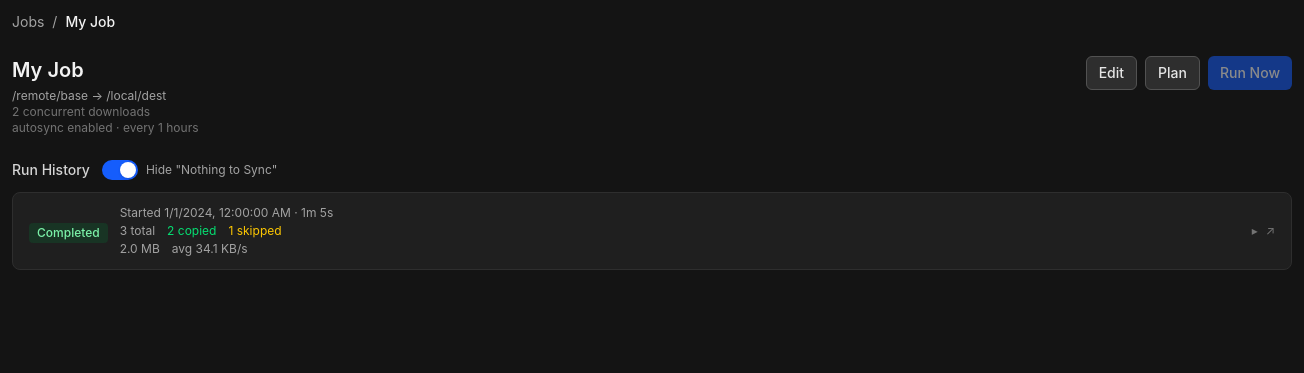
"Hide Nothing to Sync" toggle › shows the toggle when nothing_to_sync runs exist and hides/shows them on click
This screenshot has width=1304, height=373.
Expected: the text "Started 1/1/2024, 12:00:00 AM · 1m 5s" is shown once, [120,205,333,220]
Click to show all runs.
Click the switch: (120,170) [102,160,138,180]
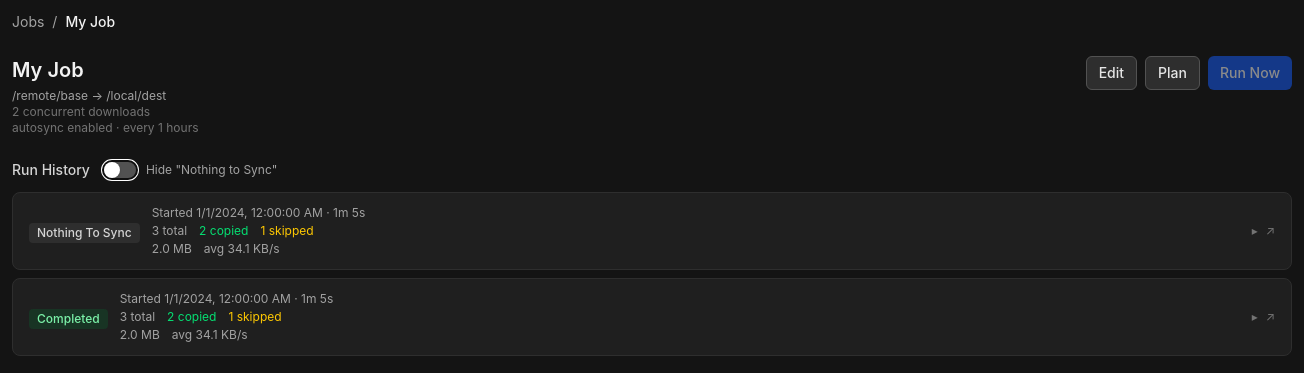
Expected: the text "Started 1/1/2024, 12:00:00 AM · 1m 5s" is shown 2 times, [152,205,365,220]; [120,291,333,306]
Click again to hide nothing_to_sync runs.
Click the switch: (120,170) [102,160,138,180]
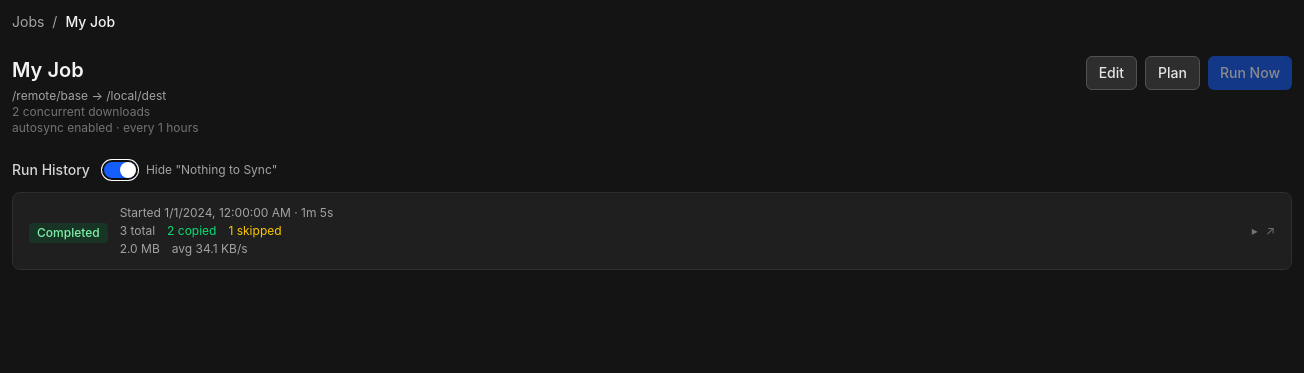
Expected: the text "Started 1/1/2024, 12:00:00 AM · 1m 5s" is shown once, [120,205,333,220]
